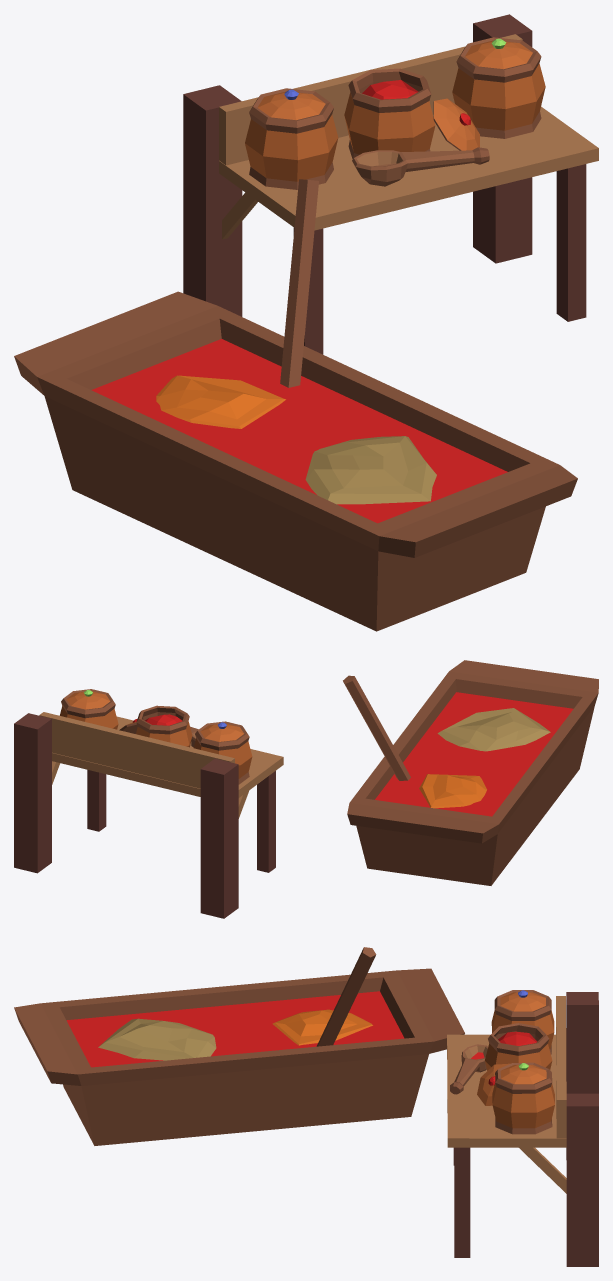
File: fabric_coloring_2.fbx
3 renders of one model, top to bottom at view 1: azimuth 30°, elevation 25°; view 2: azimuth 150°, elevation 25°; view 3: azimuth 270°, elevation 25°, orthographic. The views are drawn at different scales.
Visible parts, largest first — view 1: trough, bench.002, water 1, jar; view 2: bench.002, trough, water 1, jar; view 3: trough, bench.002, water 1, jar.
Boxes of the visible parts, x1,y1,x2,y2 form: trough: (14,291,577,631); bench.002: (183,14,598,354); water 1: (91,179,507,523); jar: (245,37,545,189); bench.002: (14,712,283,918); trough: (347,660,598,885); water 1: (343,675,573,816); jar: (60,689,252,784); trough: (14,968,464,1145); bench.002: (447,992,598,1266); water 1: (66,947,404,1067); jar: (450,990,554,1134).
Size of the model in its own units: 155 by 64.61 by 179.
